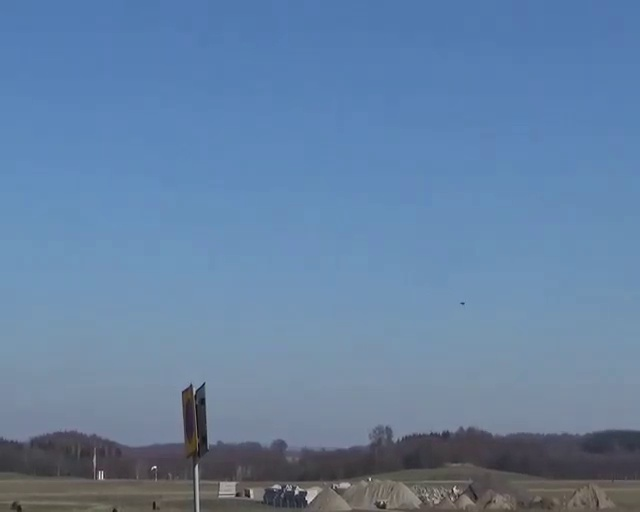BIRD: (456, 296, 467, 308)
